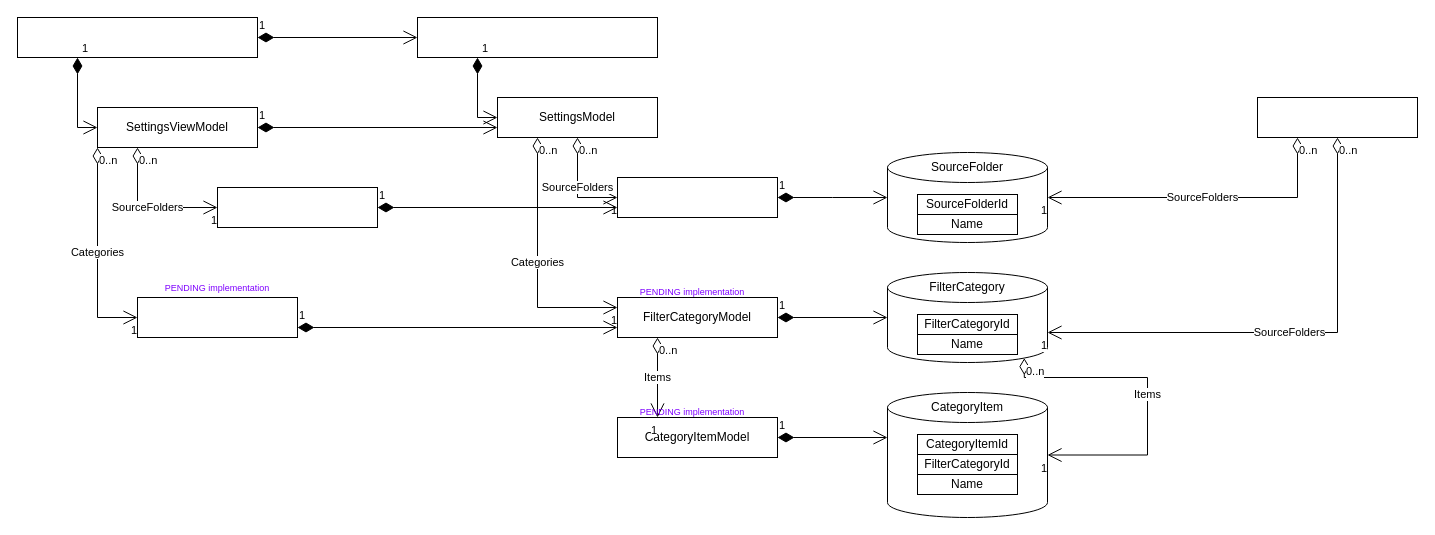
Some shapes in this 1435 by 535 pixel diagram are drawn without their labels. The centre of each missing label's shape, as x and y in pixels:
"DataContext" goes at (x=1337, y=117).
"ExpenseSummarizerModel" goes at (x=537, y=37).
"ExpenseSummarizerViewModel" goes at (x=137, y=37).
"FilterCategoryViewModel" goes at (x=217, y=317).
"SourceFolderModel" goes at (x=697, y=197).
"SourceFolderViewModel" goes at (x=297, y=207).
